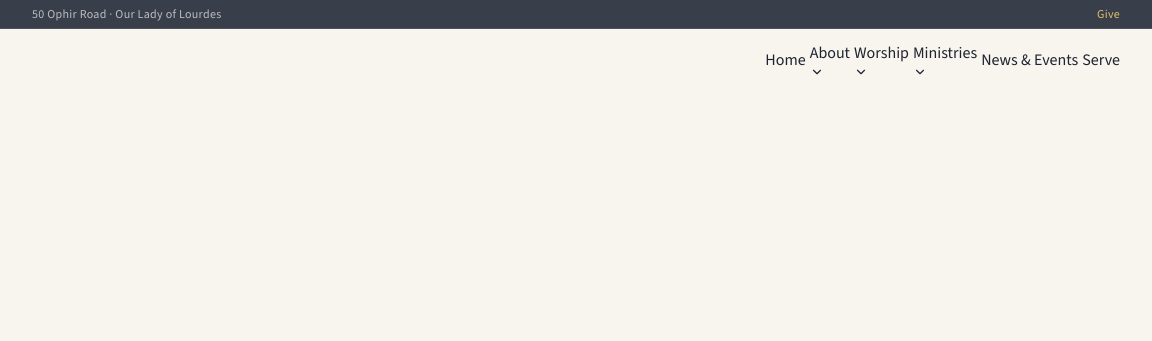
Scenario: Header desktop dropdown Escape › closes an open dropdown when Escape is pressed anywhere
Hover over the button "About" at (830, 60), box top-left (810, 41), bottom-right (850, 79)
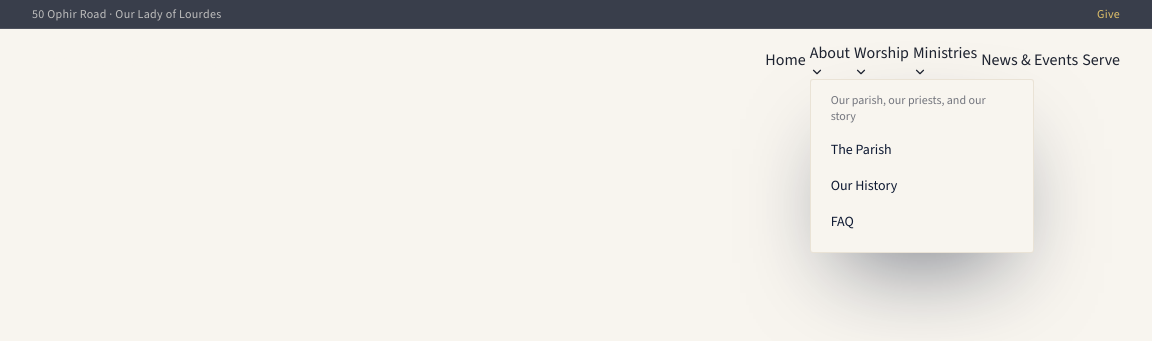
Now the text "Our parish, our priests, and our story" is shown, box top-left (831, 92), bottom-right (986, 124)
Press Escape
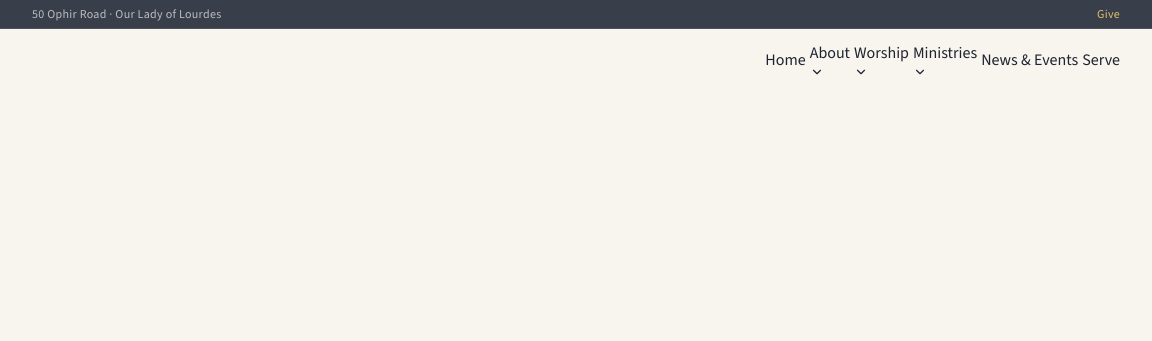
Now the text "Our parish, our priests, and our story." is gone
